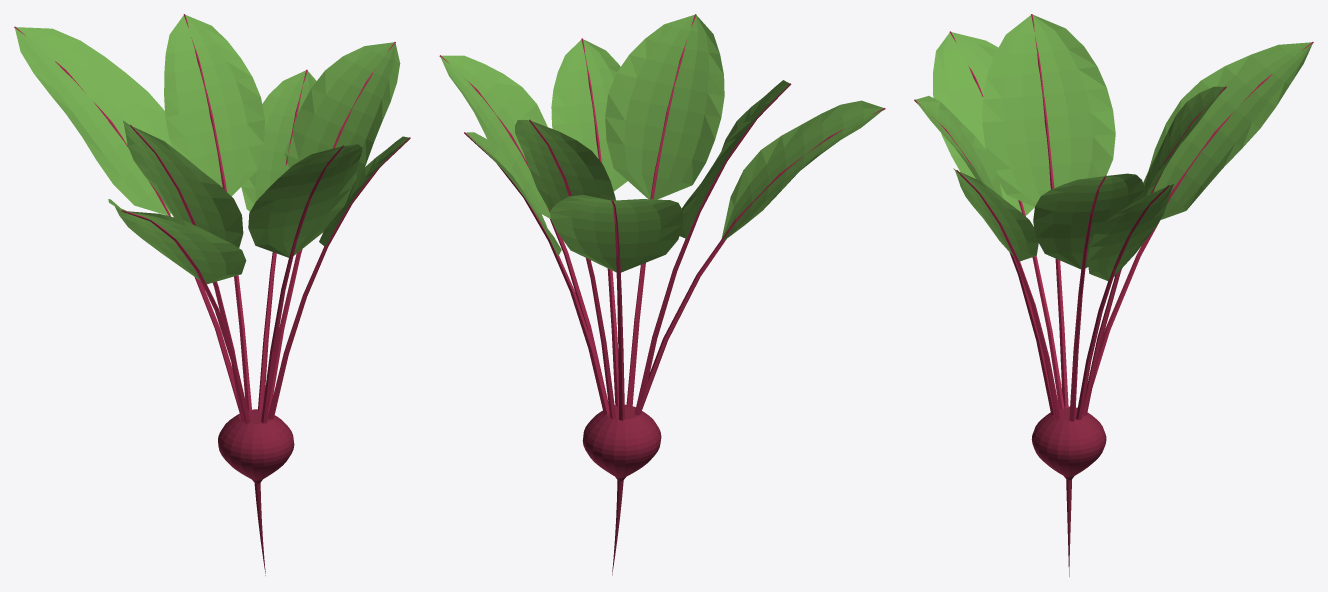
The model's file is beetroot_harvest_v05.glb.
3 views of the same model, side by side, from view 1: azimuth 30°, elevation 25°; view 2: azimuth 150°, elevation 25°; view 3: azimuth 270°, elevation 25° (orthographic). The views are drawn at different scales.
Visible parts, largest first — view 1: plant; view 2: plant; view 3: plant.
Part boxes in pixels (box(x1,y1,x2,y2)): plant: box(14, 14, 410, 575); plant: box(439, 14, 885, 575); plant: box(914, 14, 1313, 576).
Bounding box in the file's own units: 0.3841 × 0.5238 × 0.3863.
Materials: 1 (1 with a texture image).
